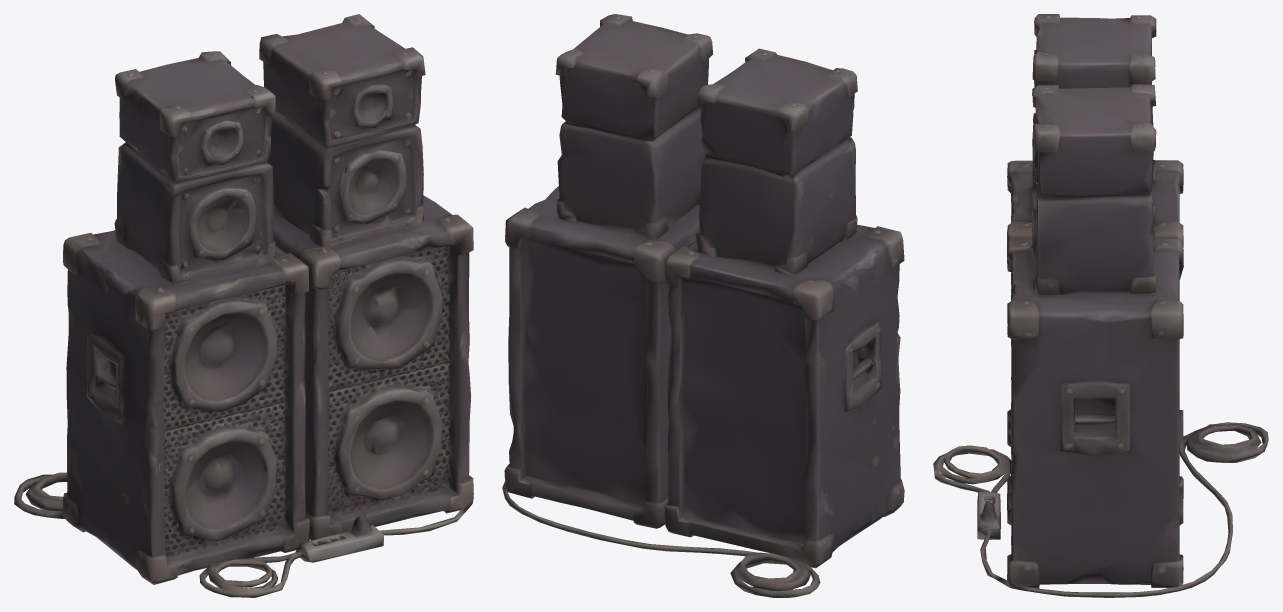
Rendered from festival_ground_speakers.glb.
3 views of the same model, side by side, from view 1: azimuth 30°, elevation 25°; view 2: azimuth 150°, elevation 25°; view 3: azimuth 270°, elevation 25° (orthographic). The views are drawn at different scales.
Visible parts, largest first — view 1: tripo_node_1e2e4540-0d41-4f60-9d5f-9f2d0e654ef7; view 2: tripo_node_1e2e4540-0d41-4f60-9d5f-9f2d0e654ef7; view 3: tripo_node_1e2e4540-0d41-4f60-9d5f-9f2d0e654ef7.
Boxes of the visible parts, <box> form: tripo_node_1e2e4540-0d41-4f60-9d5f-9f2d0e654ef7: <box>14,14,473,597</box>; tripo_node_1e2e4540-0d41-4f60-9d5f-9f2d0e654ef7: <box>502,14,904,597</box>; tripo_node_1e2e4540-0d41-4f60-9d5f-9f2d0e654ef7: <box>933,14,1268,597</box>.
Size of the model in its own units: 0.8252 by 1 by 0.6838.
Materials: 1 (1 with a texture image).
